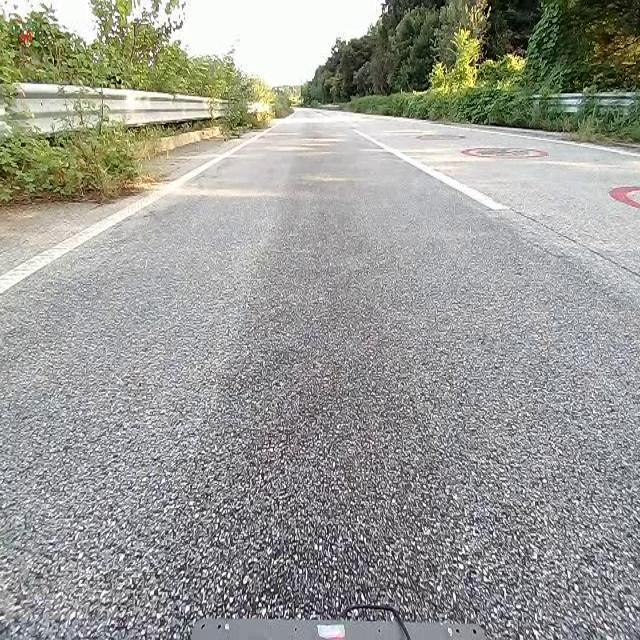Lane: (0, 107, 280, 303), (0, 131, 268, 295), (338, 108, 517, 218), (353, 126, 508, 208)
